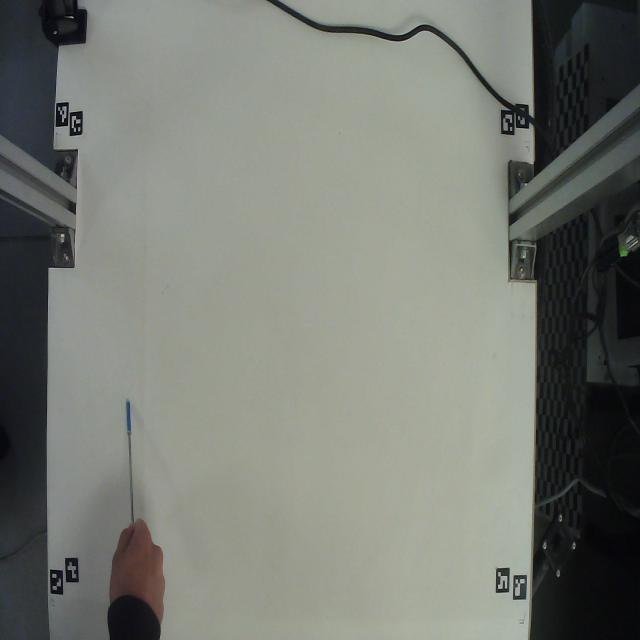Pres: (107, 368, 141, 522)
